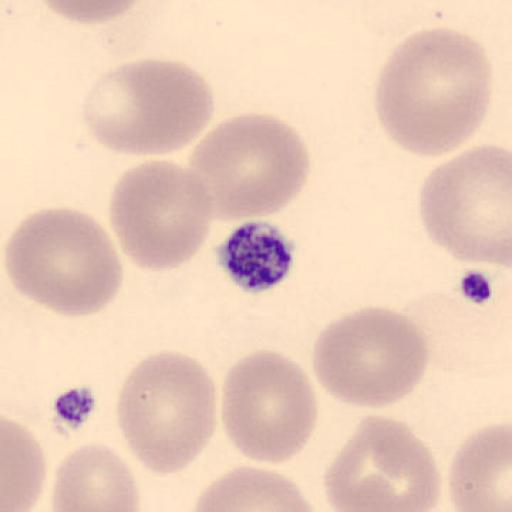Platelet: (213, 217, 299, 295), (48, 383, 100, 436)
RBC: (372, 25, 494, 160), (186, 111, 312, 222), (114, 349, 220, 478), (80, 56, 216, 156), (4, 205, 124, 318), (310, 304, 431, 410), (108, 158, 216, 272), (322, 413, 442, 511), (416, 143, 512, 265), (220, 349, 319, 465), (50, 440, 142, 512), (188, 464, 321, 512), (446, 423, 512, 512), (0, 414, 47, 512), (33, 0, 148, 25)
